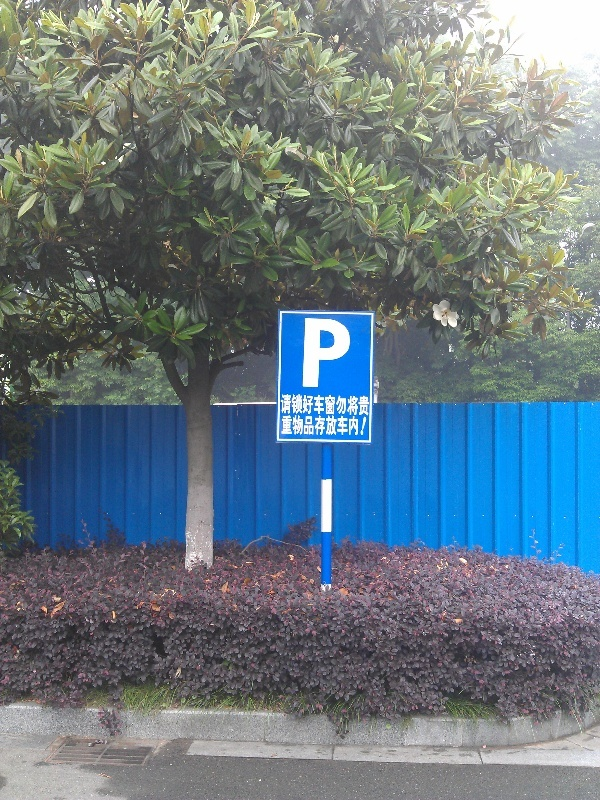text: (305, 317, 320, 391), (321, 317, 336, 391), (337, 317, 352, 391), (289, 393, 304, 417), (305, 393, 320, 417), (321, 393, 336, 417), (337, 393, 352, 417), (353, 393, 368, 417), (289, 414, 304, 437), (305, 414, 320, 437), (321, 414, 336, 437), (337, 414, 352, 437), (353, 414, 368, 437), (280, 393, 288, 417), (281, 414, 288, 437), (369, 393, 370, 417)
